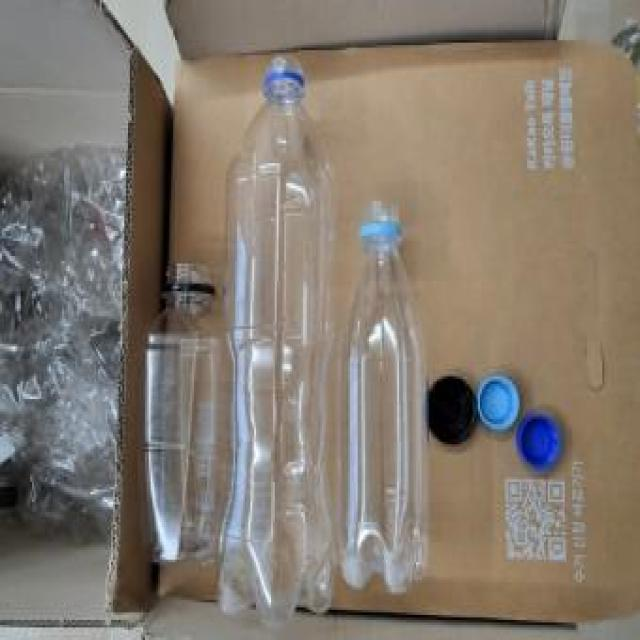bottle: (216, 58, 344, 627), (342, 203, 440, 590), (140, 264, 224, 574)
